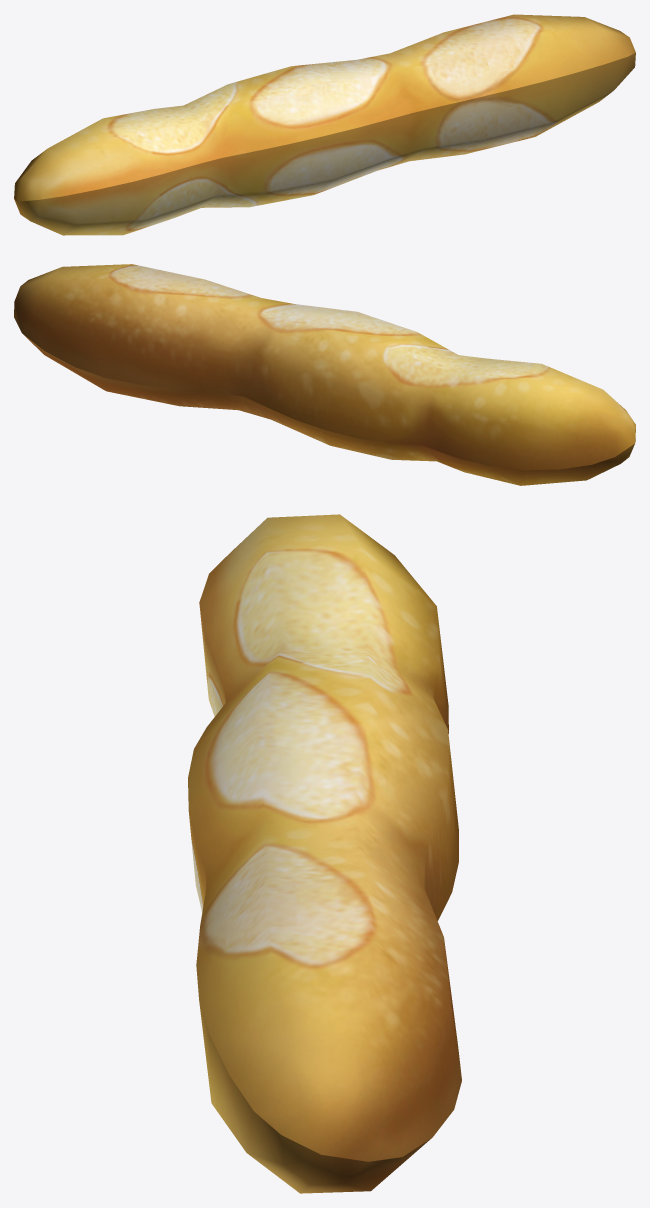
The model's file is 宝宝巴士-切菜大师-法棍.FBX.
3 views of the same model, one above another, from view 1: azimuth 30°, elevation 25°; view 2: azimuth 150°, elevation 25°; view 3: azimuth 270°, elevation 25° (orthographic). The views are drawn at different scales.
Visible parts, largest first — view 1: 宝宝巴士-切菜大师-法棍; view 2: 宝宝巴士-切菜大师-法棍; view 3: 宝宝巴士-切菜大师-法棍.
Boxes of the visible parts, x1=… form: 宝宝巴士-切菜大师-法棍: x1=14, y1=14, x2=635, y2=235; 宝宝巴士-切菜大师-法棍: x1=14, y1=264, x2=635, y2=485; 宝宝巴士-切菜大师-法棍: x1=188, y1=514, x2=461, y2=1193.
Bounding box in the file's own units: 53.5 × 9.27 × 10.34.
1 material, 1 textured.
